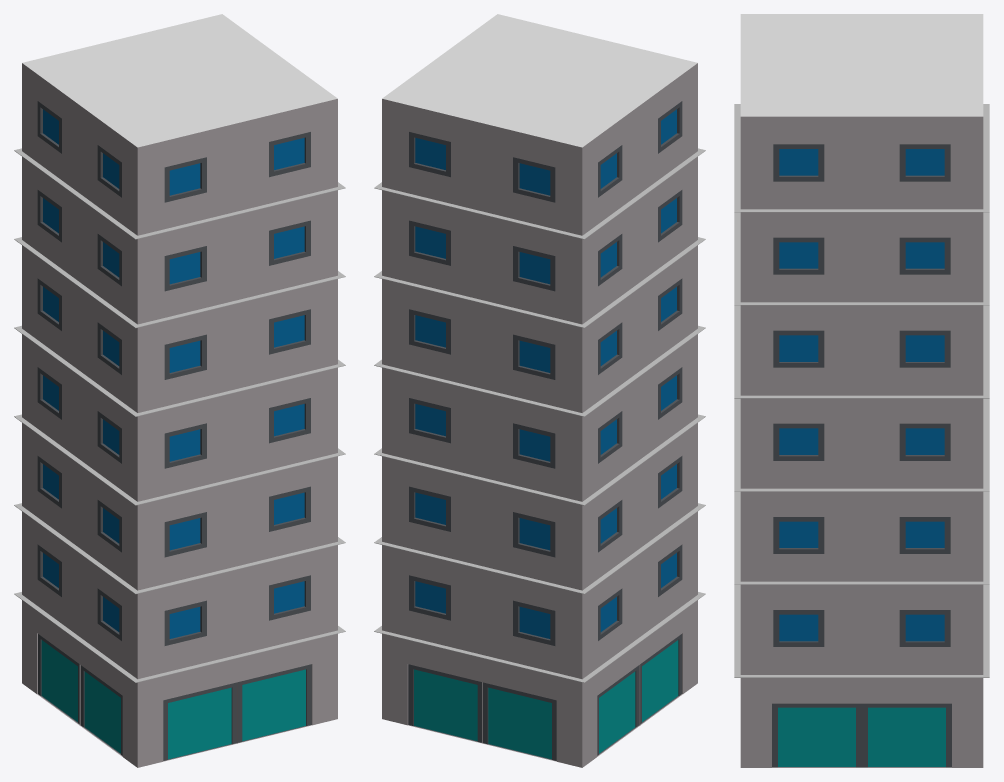
The model's file is Building.fbx.
The picture shows the model from 3 angles, left to right: view 1: azimuth 30°, elevation 25°; view 2: azimuth 150°, elevation 25°; view 3: azimuth 270°, elevation 25°; orthographic projection. The views are drawn at different scales.
Visible parts, largest first — view 1: building_001; view 2: building_001; view 3: building_001.
Boxes of the visible parts, left/top/right/bottom form: building_001: left=14, top=14, right=345, bottom=767; building_001: left=374, top=14, right=705, bottom=767; building_001: left=734, top=14, right=989, bottom=767.
Size of the model in its own units: 5.4 by 15.2 by 5.4.
